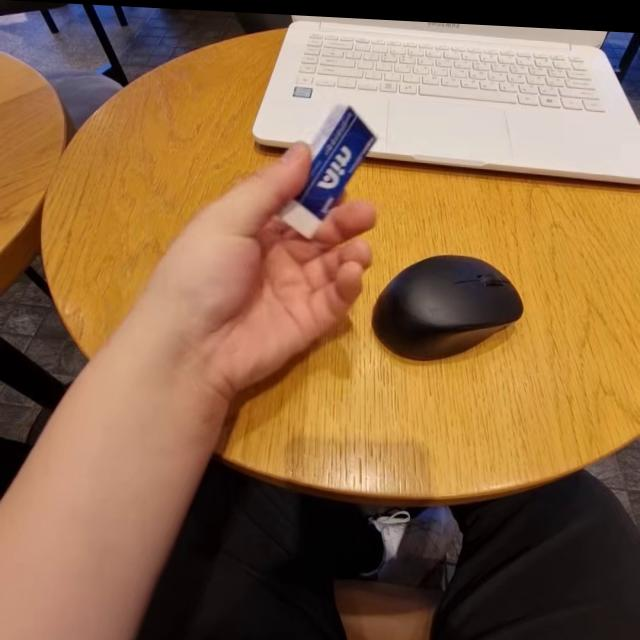grab_eraser: (138, 99, 376, 401)
mouse: (381, 240, 527, 367)
